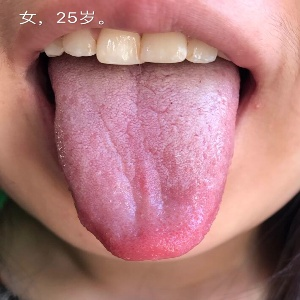st: (49, 76, 249, 255)
